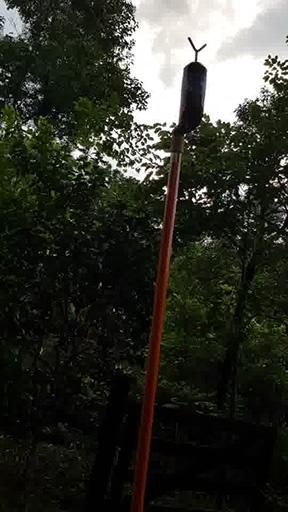Detector_Tensao_Contato: (176, 37, 209, 131)
Vara_Manobra: (132, 130, 189, 512)
